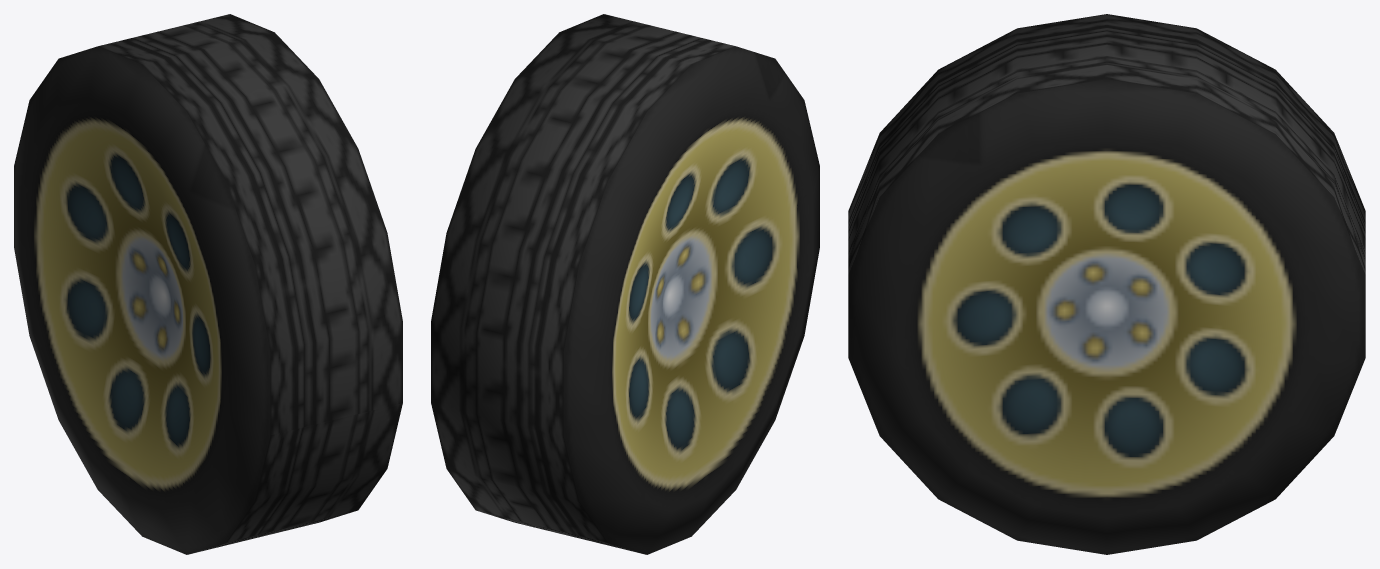
The model's file is evo_wrc_wheel.obj.
The picture shows the model from 3 angles, left to right: view 1: azimuth 30°, elevation 25°; view 2: azimuth 150°, elevation 25°; view 3: azimuth 270°, elevation 25°; orthographic projection.
Parts seen in each view (by area): view 1: wheel_Cylinder01x.011; view 2: wheel_Cylinder01x.011; view 3: wheel_Cylinder01x.011.
Boxes of the visible parts, bbox=[...] form: wheel_Cylinder01x.011: bbox=[14, 14, 402, 554]; wheel_Cylinder01x.011: bbox=[431, 14, 819, 554]; wheel_Cylinder01x.011: bbox=[848, 14, 1365, 554].
Bounding box in the file's own units: 0.7576 × 2.03 × 2.
Materials: 1 (1 with a texture image).
